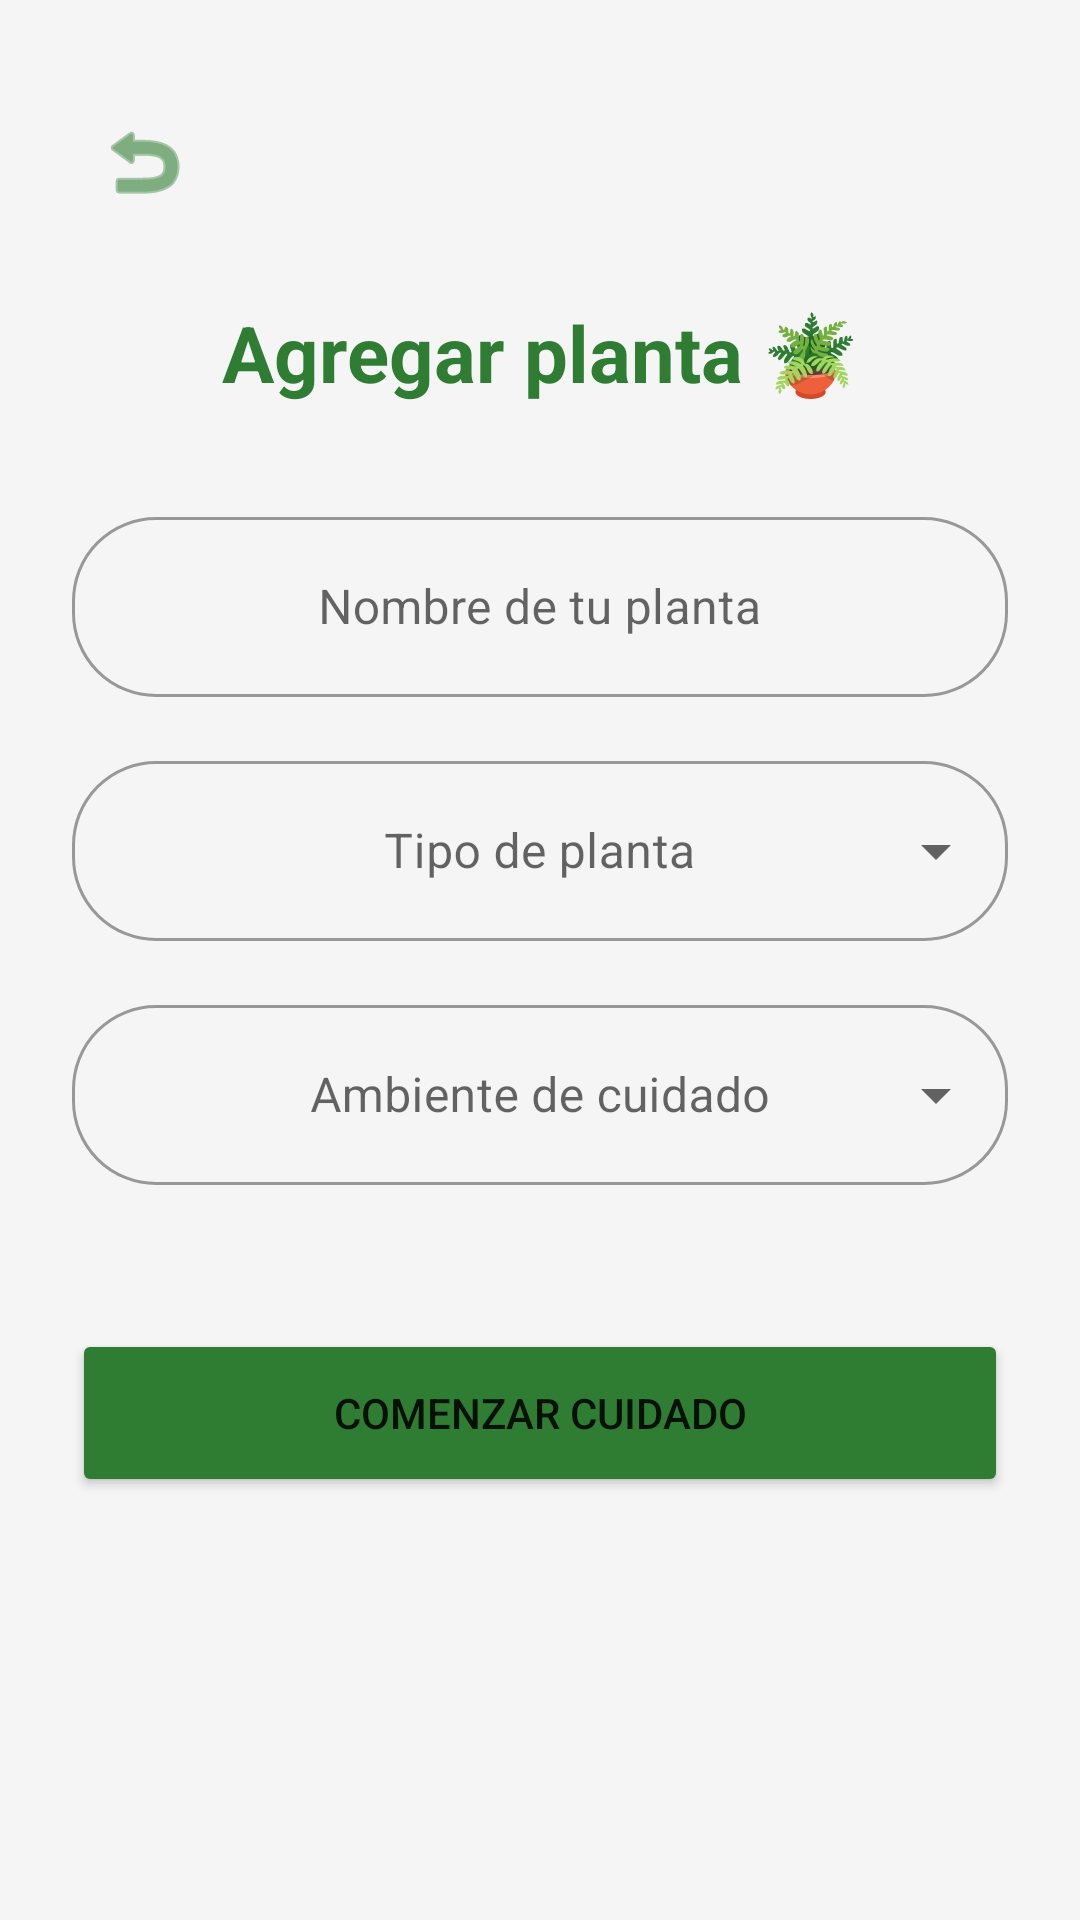

Screen size 1080 x 1920. Icon name, then its center in pixels as (x,y):
Volver: (145,162)
